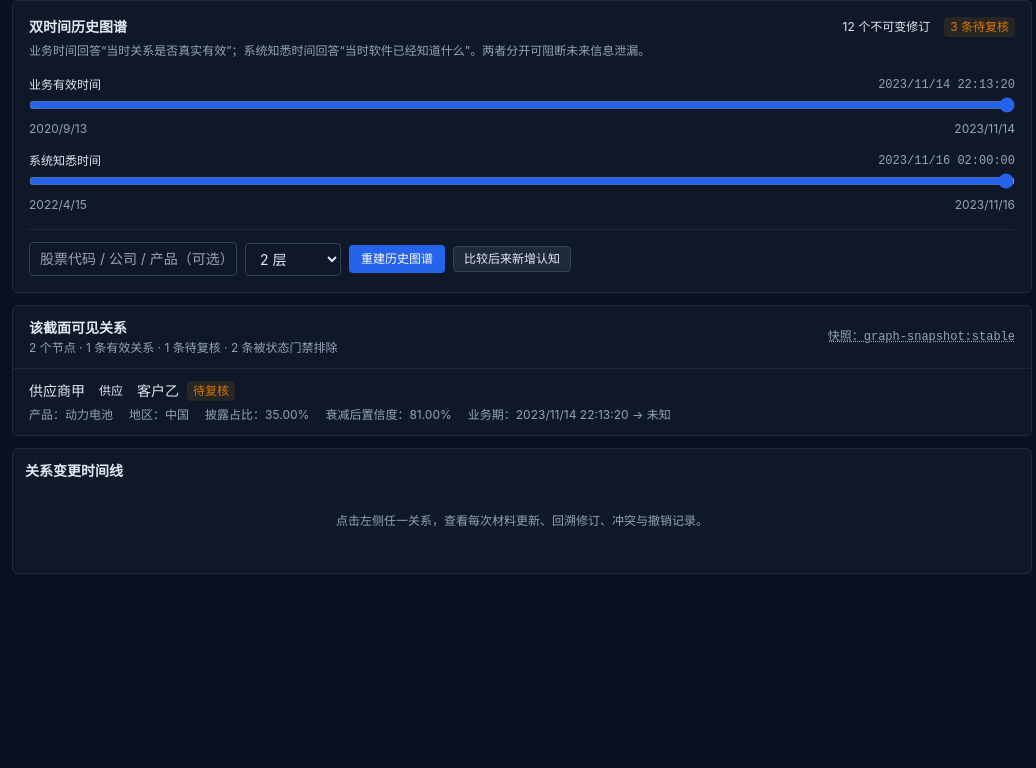
双时间历史图谱工作台 › 知识差异比较显式使用同一业务时间的两个知悉截面
Expected: the text "供应商甲" is shown, [29,381,85,401]
Click the button "比较后来新增认知": point(512, 259) [453,246,571,272]
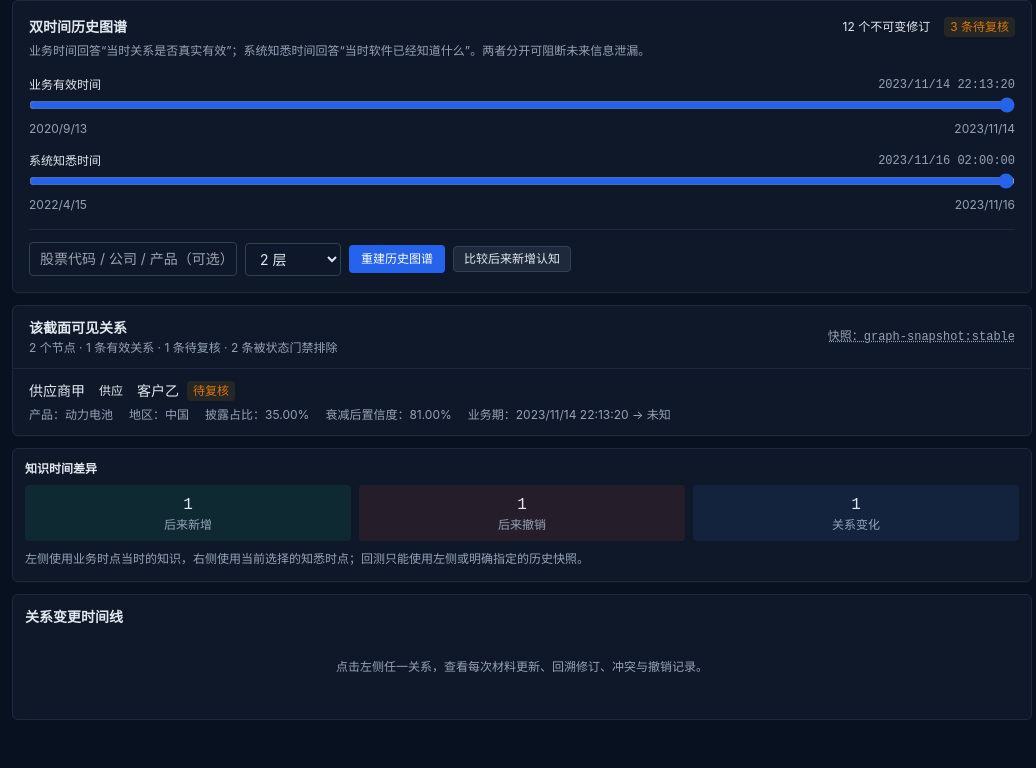
Expected: the text "知识时间差异" is shown, [25,461,97,476]
Expected: the text "后来新增" is shown, [164,517,212,532]
Expected: the text "左侧使用业务时点当时的知识，右侧使用当前选择的知悉时点；回测只能使用左侧或明确指定的历史快照。" is shown, [25,551,589,566]
